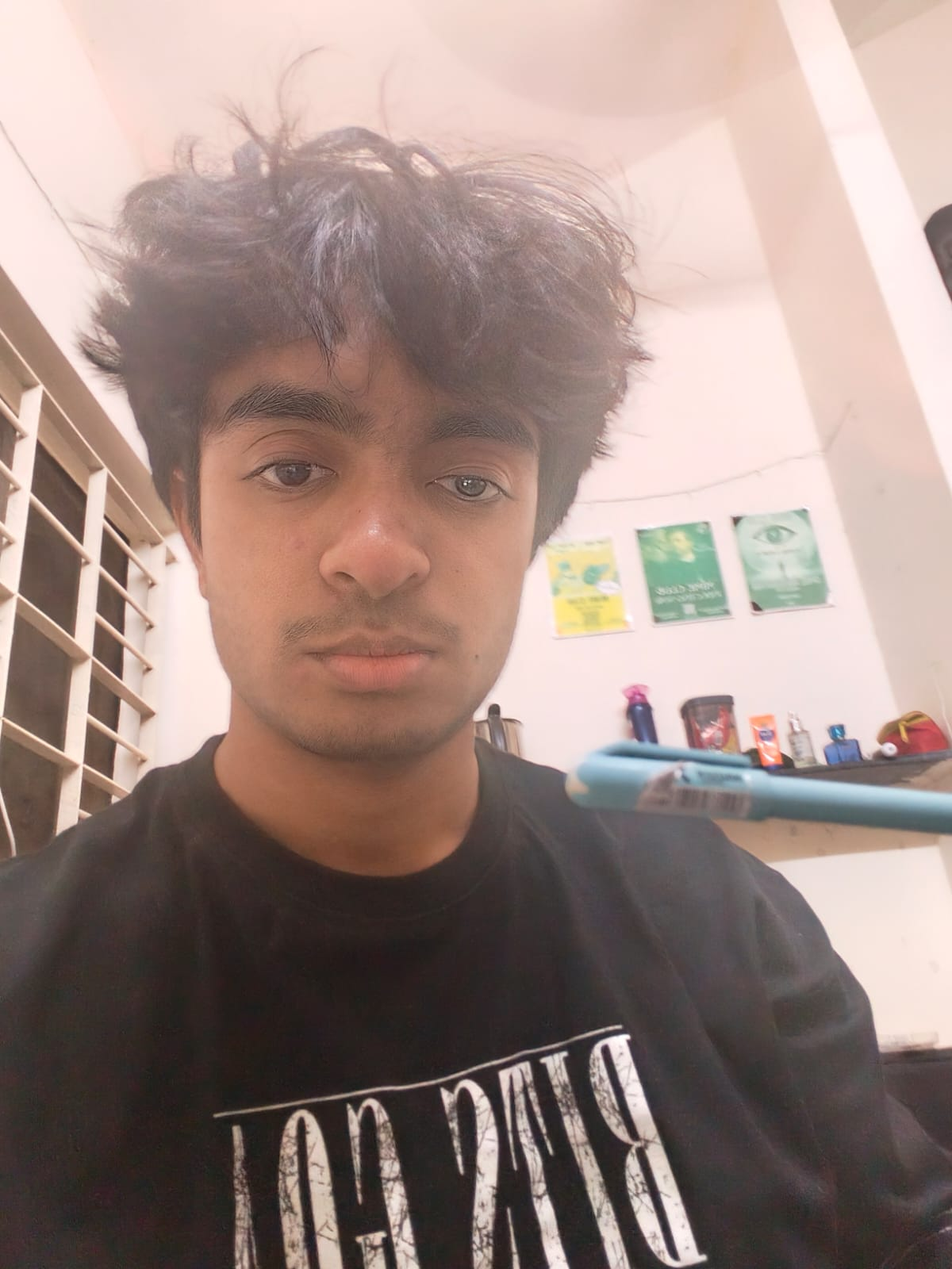pen: (565, 701, 944, 865)
